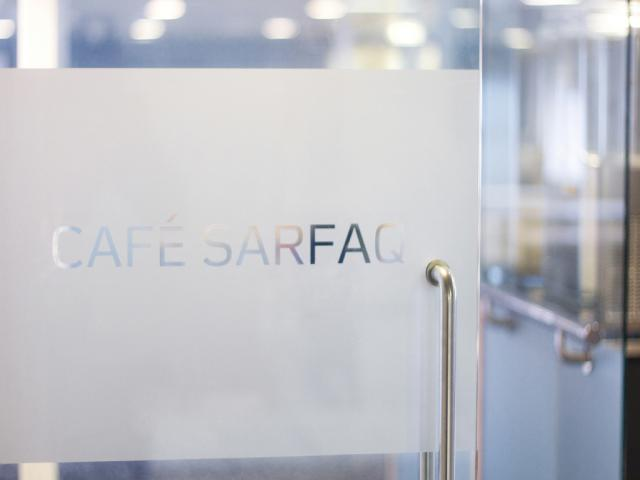Door-handle: (480, 278, 604, 376), (428, 255, 458, 480)
